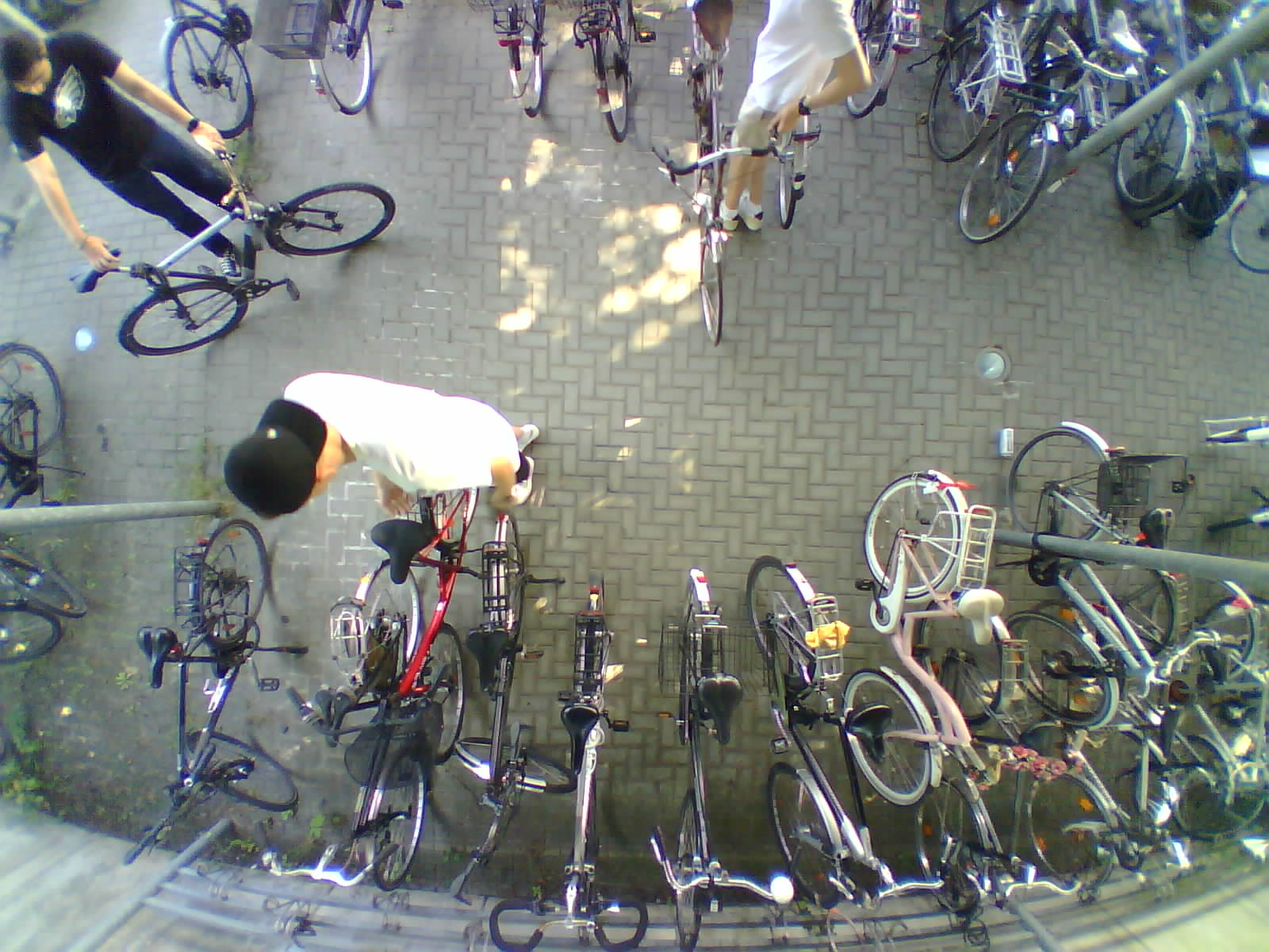bicylce: (65, 169, 395, 360), (999, 409, 1158, 724), (1083, 547, 1256, 832), (858, 460, 973, 801), (755, 552, 863, 905), (1033, 588, 1152, 908), (153, 515, 274, 828), (324, 548, 429, 881), (658, 571, 749, 952), (929, 587, 1015, 914), (668, 12, 750, 348), (470, 513, 543, 886), (555, 572, 622, 947), (977, 0, 1072, 250), (395, 466, 471, 756)
saddle: (368, 519, 433, 581), (698, 670, 746, 748), (308, 679, 357, 742), (954, 590, 1006, 649), (851, 696, 893, 769), (66, 244, 125, 294), (466, 630, 512, 693), (136, 623, 178, 691), (560, 704, 598, 772), (1106, 11, 1150, 61), (1140, 501, 1179, 556), (694, 0, 734, 53), (1153, 697, 1184, 760), (1204, 638, 1228, 685), (1246, 79, 1269, 119)
